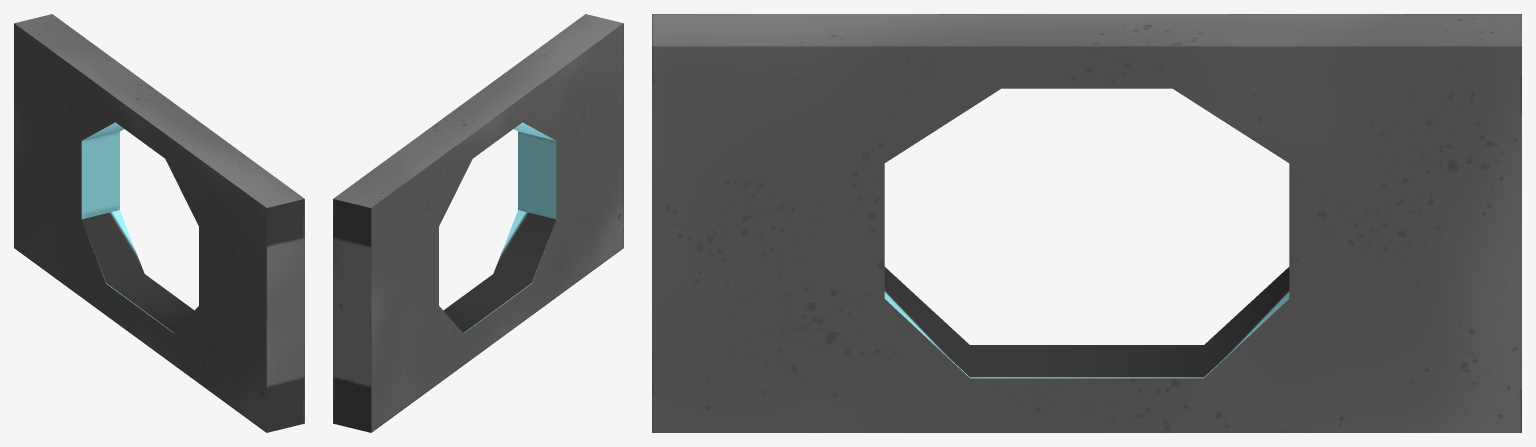
The model's file is hexWall_model.fbx.
The picture shows the model from 3 angles, left to right: view 1: azimuth 30°, elevation 25°; view 2: azimuth 150°, elevation 25°; view 3: azimuth 270°, elevation 25°; orthographic projection. The views are drawn at different scales.
Parts seen in each view (by area): view 1: Box005, Box006; view 2: Box005, Box006; view 3: Box005, Box006.
Boxes of the visible parts, x1,y1,x2,y2 form: Box005: [14, 14, 304, 432]; Box006: [81, 210, 196, 332]; Box005: [333, 14, 623, 432]; Box006: [441, 210, 556, 332]; Box005: [652, 14, 1521, 432]; Box006: [884, 267, 1289, 377].
Size of the model in its own units: 5.23 by 29.32 by 59.74.
Materials: 2 (2 with a texture image).
